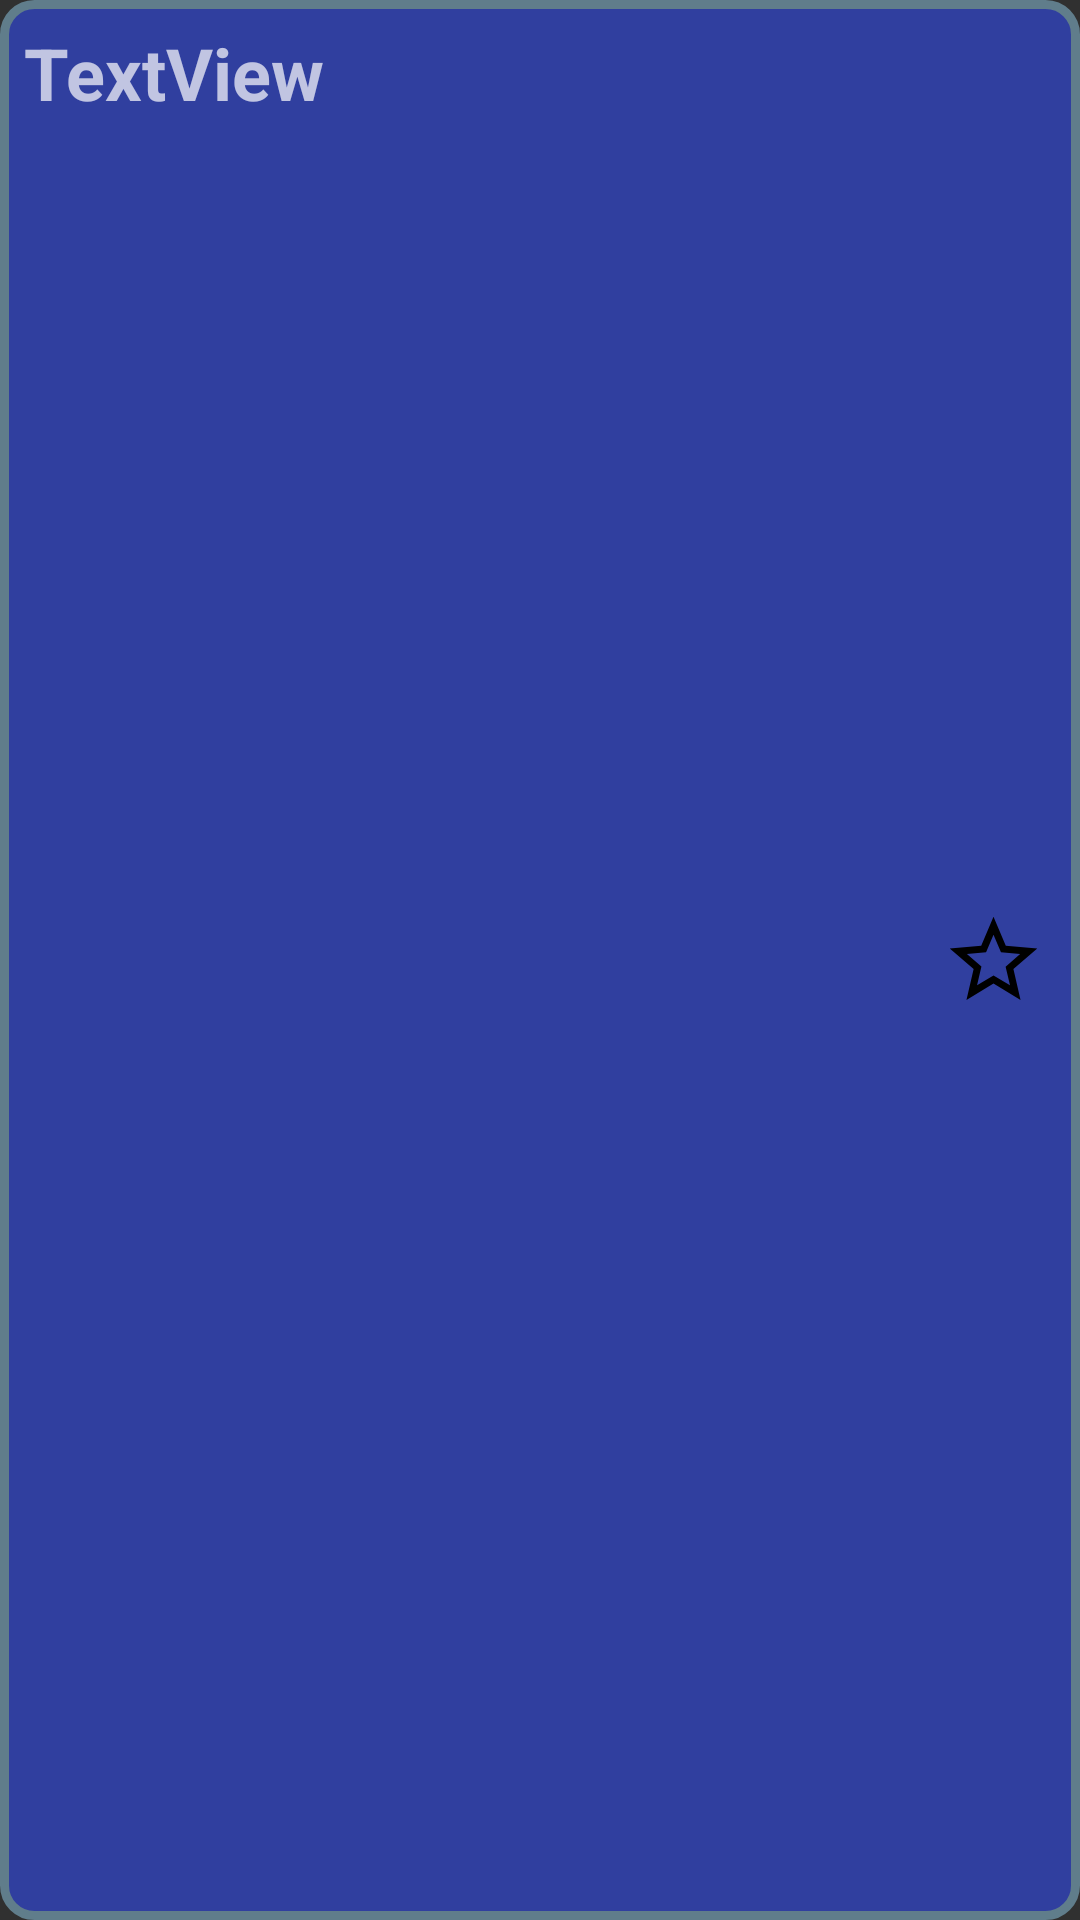

Named icons in this screenshot (1080x1920) and their centers, [x,y]:
star border: [993,958]
